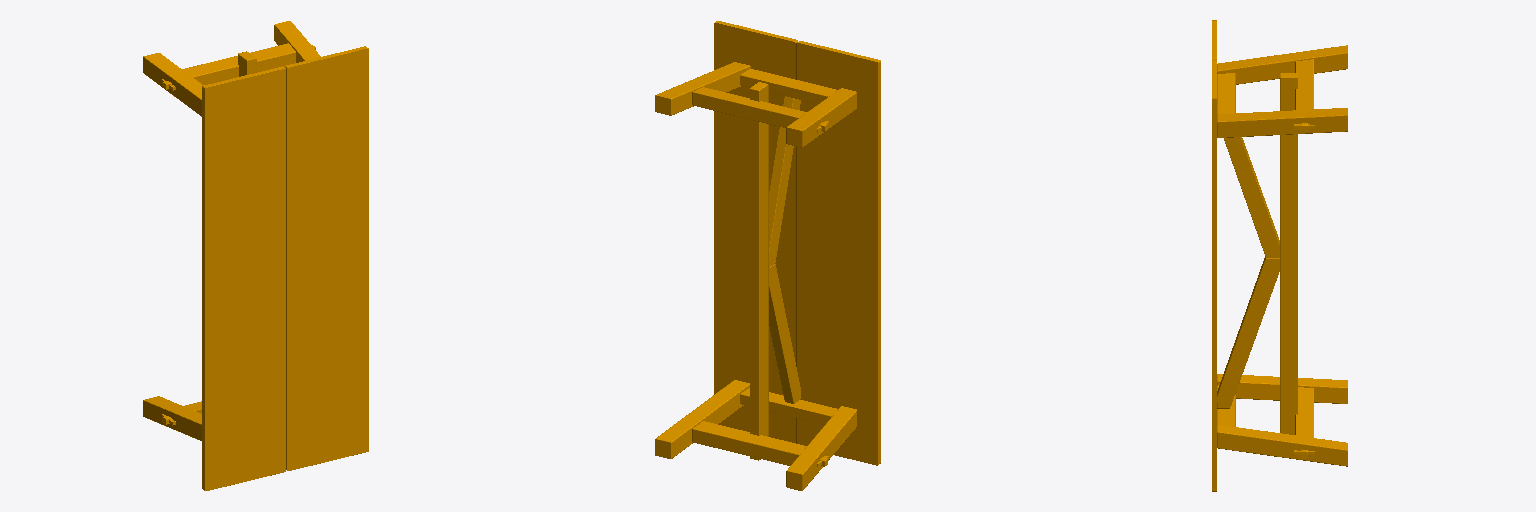
URDF robot description (DiningTable):
<?xml version="1.0"?>
<robot name="DiningTable">
  <link name="base_link">
    <!-- Visual elements -->
    <visual name="visual_wood">
      <origin xyz="0.0 0 0" rpy="1.5708 0.0 0.0"/>
      <geometry>
        <mesh filename="meshes/dark_marble.dae"/>
      </geometry>
      <pose>5 0 0 1.5708 1.5708 0</pose>
      <!-- URDF does not support material definitions like SDF. You should apply materials/textures in the mesh file itself -->
    </visual>
    <!-- Collision elements -->
    <collision name="Box011">
      <geometry>
        <box size="0.058 0.091 1.10422"/>
      </geometry>
      <origin xyz="0.0 0.302465 0.49338" rpy="-1.25664 0.0 0.0"/>
    </collision>
    <collision name="Box010">
      <geometry>
        <box size="0.058 0.091 1.10422"/>
      </geometry>
      <origin xyz="0.0 -0.302465 0.49338" rpy="1.25664 0.0 0.0"/>
    </collision>
    <collision name="Box009">
      <geometry>
        <box size="0.1 0.1 0.736144"/>
      </geometry>
      <origin xyz="-0.361336 -0.961929 0.36405" rpy="-0.10472 0.10472 -0.010472"/>
    </collision>
    <collision name="Box008">
      <geometry>
        <box size="0.1 0.1 0.736144"/>
      </geometry>
      <origin xyz="0.361336 -0.961929 0.36405" rpy="-0.10472 -0.10472 0.010472"/>
    </collision>
    <collision name="Box007">
      <geometry>
        <box size="0.1 0.1 0.736144"/>
      </geometry>
      <origin xyz="0.361336 0.961929 0.36405" rpy="0.10472 -0.10472 -0.010472"/>
    </collision>
    <collision name="Box006">
      <geometry>
        <box size="0.1 0.1 0.736144"/>
      </geometry>
      <origin xyz="-0.361336 0.961929 0.36405" rpy="0.10472 0.10472 0.010472"/>
    </collision>
    <collision name="Box005">
      <geometry>
        <box size="0.084456 0.884815 0.099045"/>
      </geometry>
      <origin xyz="0.0 -0.97917 0.236278" rpy="0.0 0.0 -1.5708"/>
    </collision>
    <collision name="Box004">
      <geometry>
        <box size="0.084456 0.884815 0.099045"/>
      </geometry>
      <origin xyz="0.0 0.97917 0.236278" rpy="0.0 0.0 -1.5708"/>
    </collision>
    <collision name="Box003">
      <geometry>
        <box size="0.0612 2.15808 0.1065"/>
      </geometry>
      <origin xyz="0.0 0.0 0.320813" rpy="0.0 0.0 0.0"/>
    </collision>
    <collision name="Box002">
      <geometry>
        <box size="0.68 1.91 0.1065"/>
      </geometry>
      <origin xyz="0.0 0.0 0.664356" rpy="0.0 0.0 0.0"/>
    </collision>
    <collision name="Box001">
      <geometry>
        <box size="1.0 2.35 0.03"/>
      </geometry>
      <origin xyz="0.0 0.0 0.725" rpy="0.0 0.0 0.0"/>
    </collision>
  </link>
</robot>

--- Facts derived from the render (not from the file) ---
Views: 3 orthographic renders of the robot side by side, from view 1: azimuth 30°, elevation 25°; view 2: azimuth 150°, elevation 25°; view 3: azimuth 270°, elevation 25°.
Robot: DiningTable — 1 links, 0 joints (none); root link base_link; default pose: every joint at zero.
Links seen in each view (by area): view 1: base_link; view 2: base_link; view 3: base_link.
Boxes of the visible links, left/top/right/bottom form: base_link: left=143, top=21, right=368, bottom=490; base_link: left=655, top=21, right=880, bottom=490; base_link: left=1212, top=20, right=1347, bottom=491.
Size in the robot's own frame: 1 by 0.74 by 2.35 metres.
1 mesh visuals loaded from 1 distinct referenced files (1 Collada DAE).